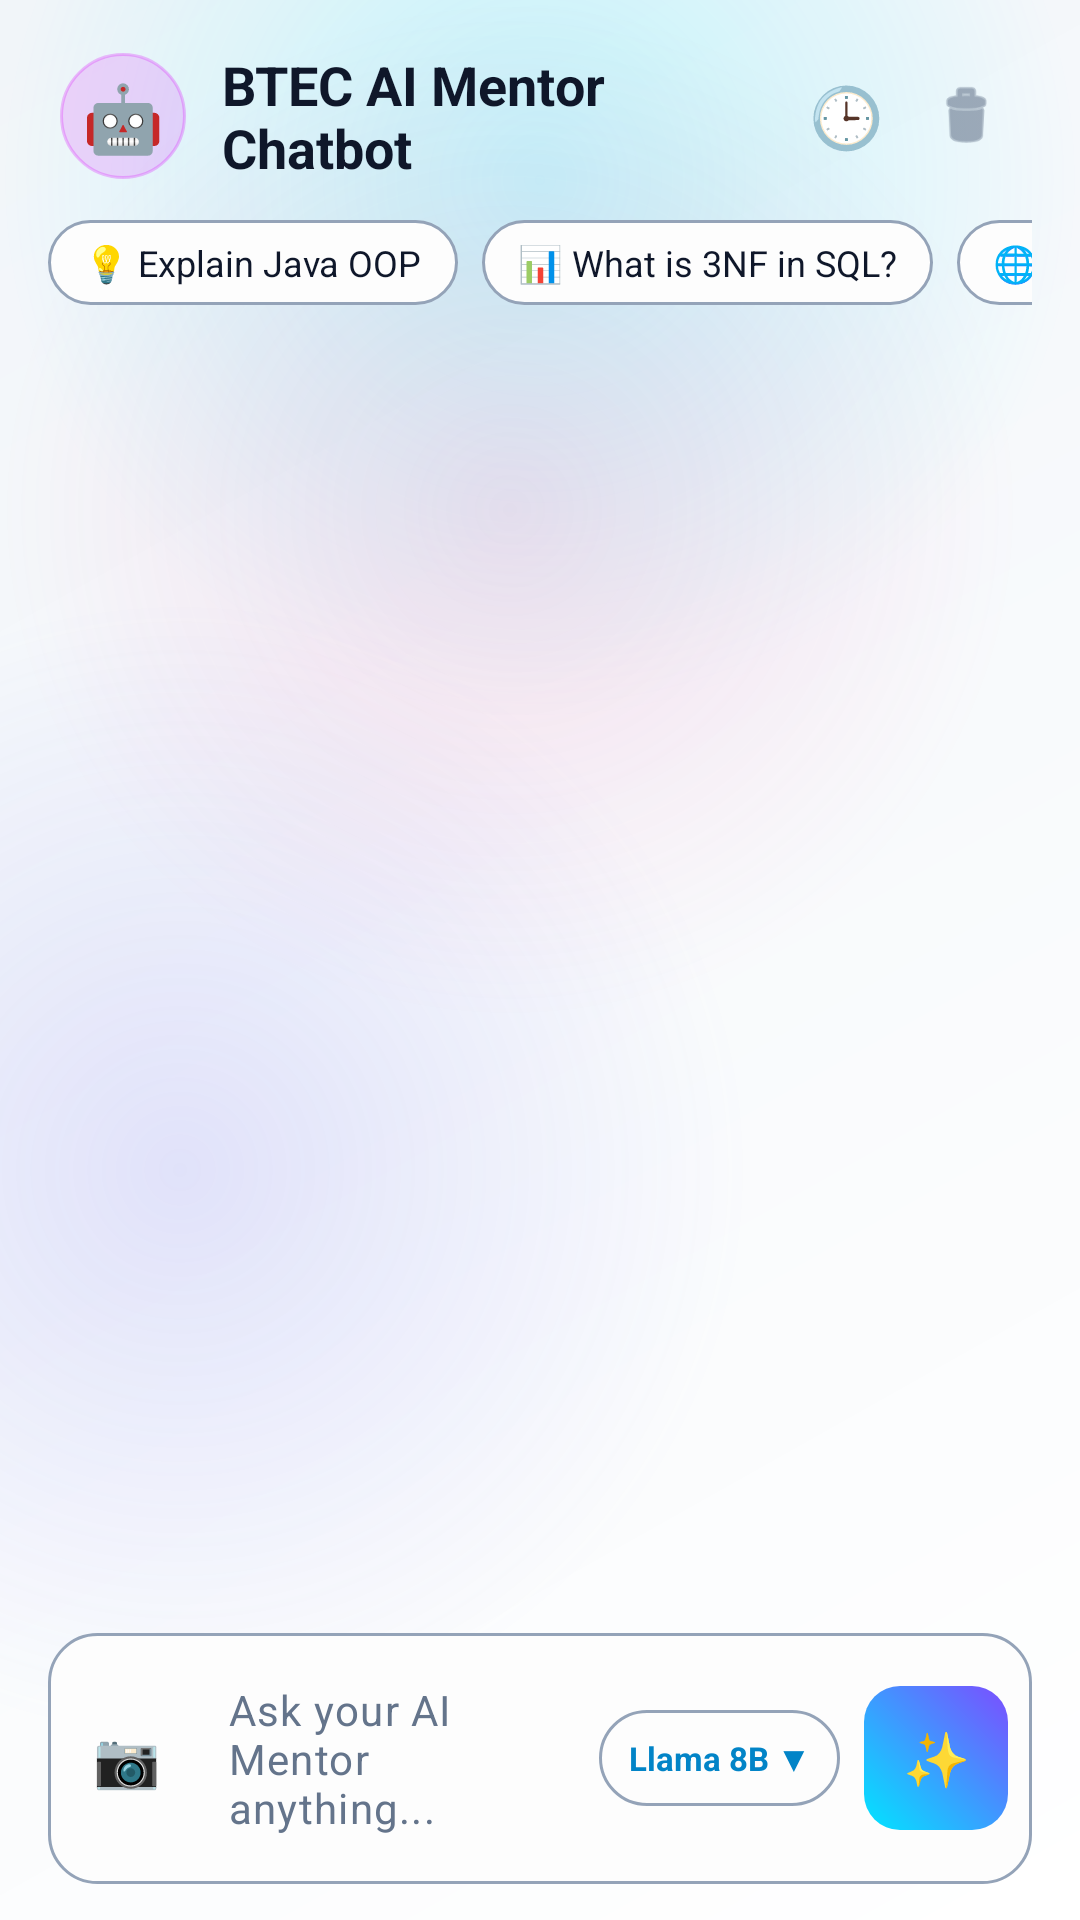

Screen size 1080*1920. Icon name, then its center in pixels as (x,y):
Clear Chat History: (966,115)
